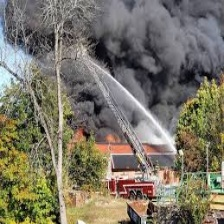smoke: (70, 5, 224, 120)
